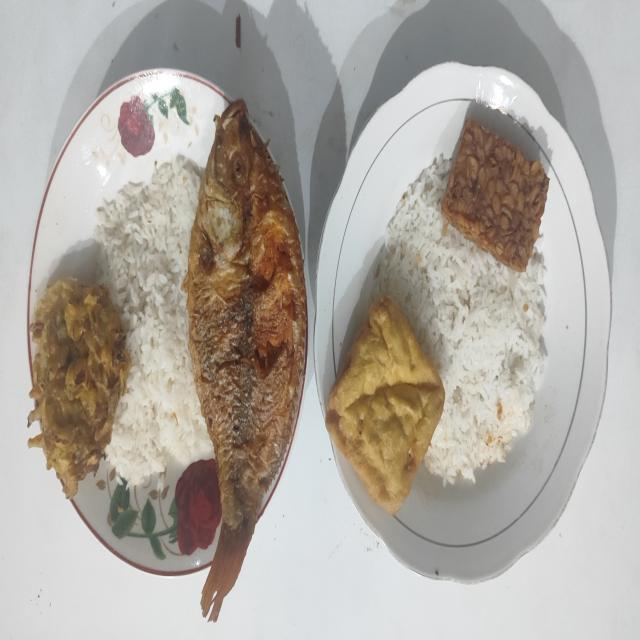ikan_mujair: (183, 100, 307, 620)
nasi_putih: (376, 153, 546, 484), (96, 156, 213, 485)
tahu_goreng: (326, 297, 444, 514)
tempe_goreng: (442, 120, 550, 272)
